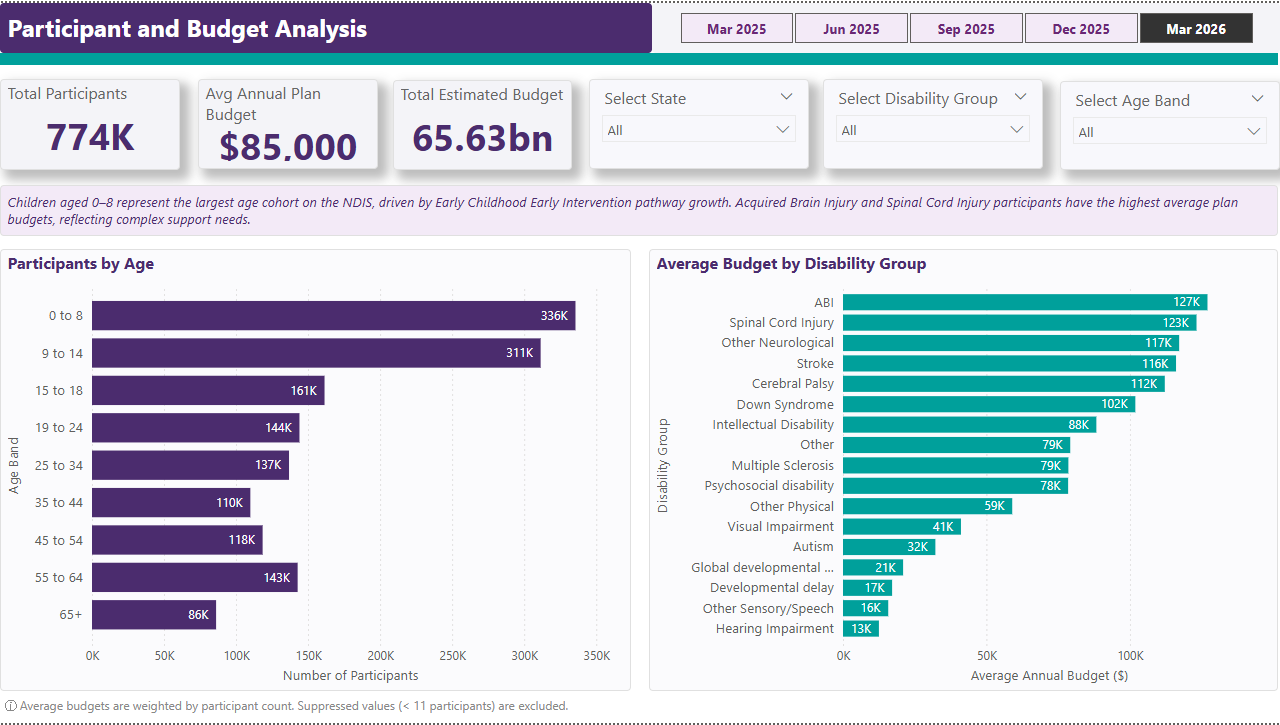

The dashboard page shown, as its layout file describes it:
{"tool":"powerbi","page":{"name":"Participant & Budget Analysis","canvas":[1280,720],"ordinal":1},"visuals":[{"type":"textbox","box":[0,0,652.3,50],"z":0},{"type":"slicer","fields":{"Values":["DimDate.QuarterLabel"]},"box":[652.3,0,627.3,50],"z":1000},{"type":"card","title":"Total Participants","fields":{"Values":["Measures (2).P2 Total Participants"]},"box":[0,76.5,180,90.6],"z":2000},{"type":"card","title":"Avg Annual Plan Budget","fields":{"Values":["Measures (2).P2 Weighted Avg Budget"]},"box":[198,76,180,90],"z":3000},{"type":"card","title":"Total Estimated Budget","fields":{"Values":["Measures (2).P2 Total Estimated Budget"]},"box":[393,77,179,90],"z":4000},{"type":"clusteredBarChart","title":"Participants by Age","fields":{"Y":["Measures (2).Participants by Age"],"Category":["DimAgeBand.AgeBand"]},"box":[0,245.6,631.1,442.2],"z":5000},{"type":"clusteredBarChart","title":"Average Budget by Disability Group","fields":{"Category":["FactParticipantBudget.DisabilityGroup"],"Y":["Measures (2).Weighted Avg Budget by Group"]},"box":[648.9,245.6,628.9,442.2],"z":6000},{"type":"slicer","title":"Select State","fields":{"Values":["DimState.StateName"]},"box":[589,76,220,90],"z":7000},{"type":"slicer","fields":{"Values":["FactParticipantBudget.DisabilityGroup"]},"box":[823,76,220,90],"z":8000},{"type":"slicer","fields":{"Values":["DimAgeBand.AgeBand"]},"box":[1060,78,220,89],"z":9000},{"type":"shape","box":[0,50,1278,12],"z":10000},{"type":"textbox","box":[0,687.7,1277.8,32.1],"z":11000},{"type":"textbox","box":[0,182.2,1277.8,51.1],"z":12000}]}

Visuals, with their boxes in screenshot pixels (x1, y1, x2, y2), scaled from the page's 1280x720 canvas onto the 1280x725 screenshot:
textbox: l=0, t=0, r=652, b=50
slicer - DimDate.QuarterLabel: l=652, t=0, r=1279, b=50
"Total Participants" card: l=0, t=77, r=180, b=168
"Avg Annual Plan Budget" card: l=198, t=77, r=378, b=167
"Total Estimated Budget" card: l=393, t=78, r=572, b=168
"Participants by Age" clusteredBarChart: l=0, t=247, r=631, b=693
"Average Budget by Disability Group" clusteredBarChart: l=649, t=247, r=1278, b=693
"Select State" slicer: l=589, t=77, r=809, b=167
slicer - FactParticipantBudget.DisabilityGroup: l=823, t=77, r=1043, b=167
slicer - DimAgeBand.AgeBand: l=1060, t=79, r=1279, b=168
shape: l=0, t=50, r=1278, b=62
textbox: l=0, t=692, r=1278, b=724
textbox: l=0, t=183, r=1278, b=235
